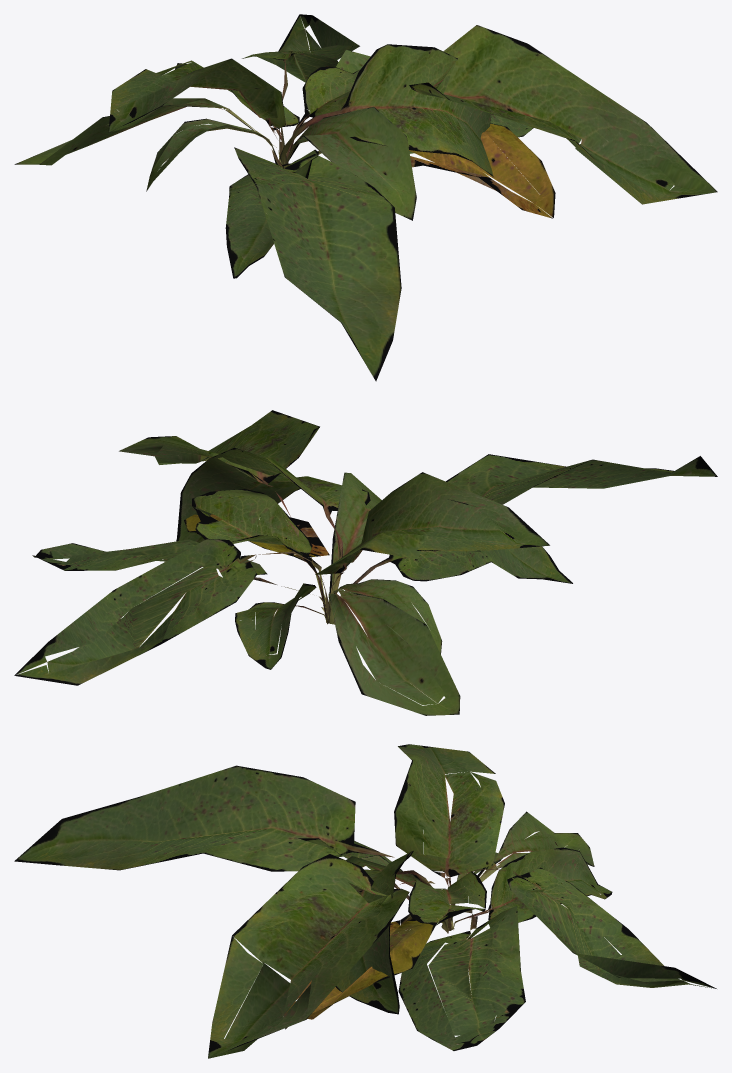
The model's file is plant_weed_plant_02.glb.
3 views of the same model, one above another, from view 1: azimuth 30°, elevation 25°; view 2: azimuth 150°, elevation 25°; view 3: azimuth 270°, elevation 25° (orthographic). The views are drawn at different scales.
Visible parts, largest first — view 1: weedA, weedB; view 2: weedA, weedB; view 3: weedA, weedB.
Boxes of the visible parts, x1=… form: weedA: x1=14, y1=14, x2=717, y2=381; weedB: x1=146, y1=44, x2=493, y2=278; weedA: x1=14, y1=410, x2=717, y2=715; weedB: x1=176, y1=447, x2=572, y2=669; weedA: x1=14, y1=744, x2=716, y2=1058; weedB: x1=298, y1=838, x2=612, y2=1014.
Size of the model in its own units: 0.2198 by 0.0717 by 0.2919.
2 materials, 2 textured.
